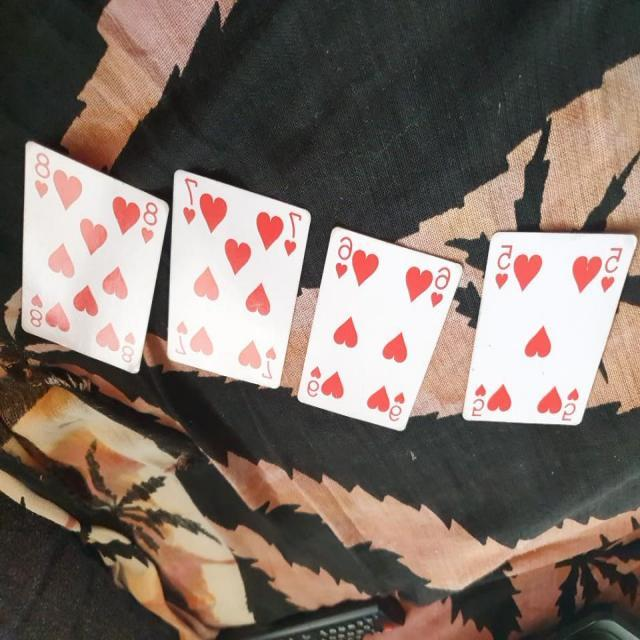5 of hearts: (462, 210, 640, 438)
6 of hearts: (296, 222, 462, 436)
7 of hearts: (156, 164, 314, 394)
8 of hearts: (15, 129, 168, 375)
